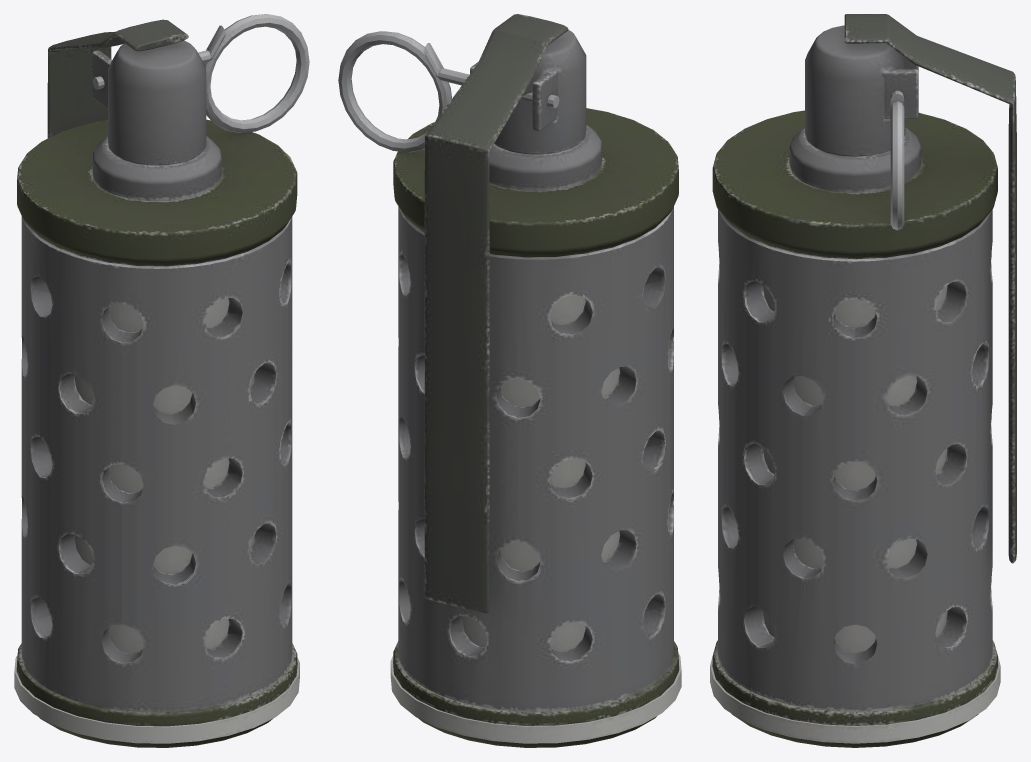
File: shanguang.glb
3 renders of one model, left to right at view 1: azimuth 30°, elevation 25°; view 2: azimuth 150°, elevation 25°; view 3: azimuth 270°, elevation 25°, orthographic.
Parts seen in each view (by area): view 1: body, lever, pin; view 2: body, lever, pin; view 3: body, lever, pin.
Part boxes in pixels (x1,y1,x2,y2): body: (14, 40, 299, 747); lever: (47, 19, 188, 138); pin: (92, 14, 309, 132); body: (390, 29, 681, 747); lever: (424, 14, 568, 613); pin: (338, 31, 559, 152); body: (710, 25, 1000, 747); lever: (844, 14, 1016, 563); pin: (890, 90, 904, 230).
Bounding box in the file's own units: 0.0658 × 0.1393 × 0.0581.
1 material, 1 textured.
